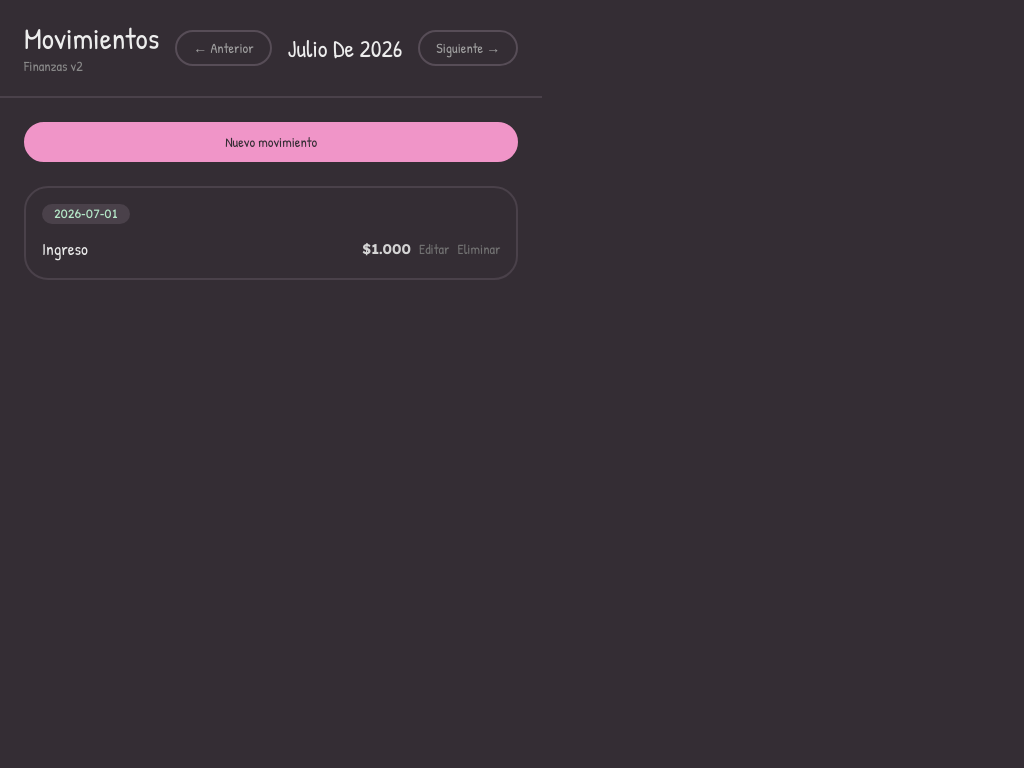
Test: FinanceV2Screen › editing a listed transaction reuses the modal, guards the MonthNav and updates the row
Click the button with aria-label "Editar movimiento de $1.000".
click(434, 249)  # box [419,239,450,259]
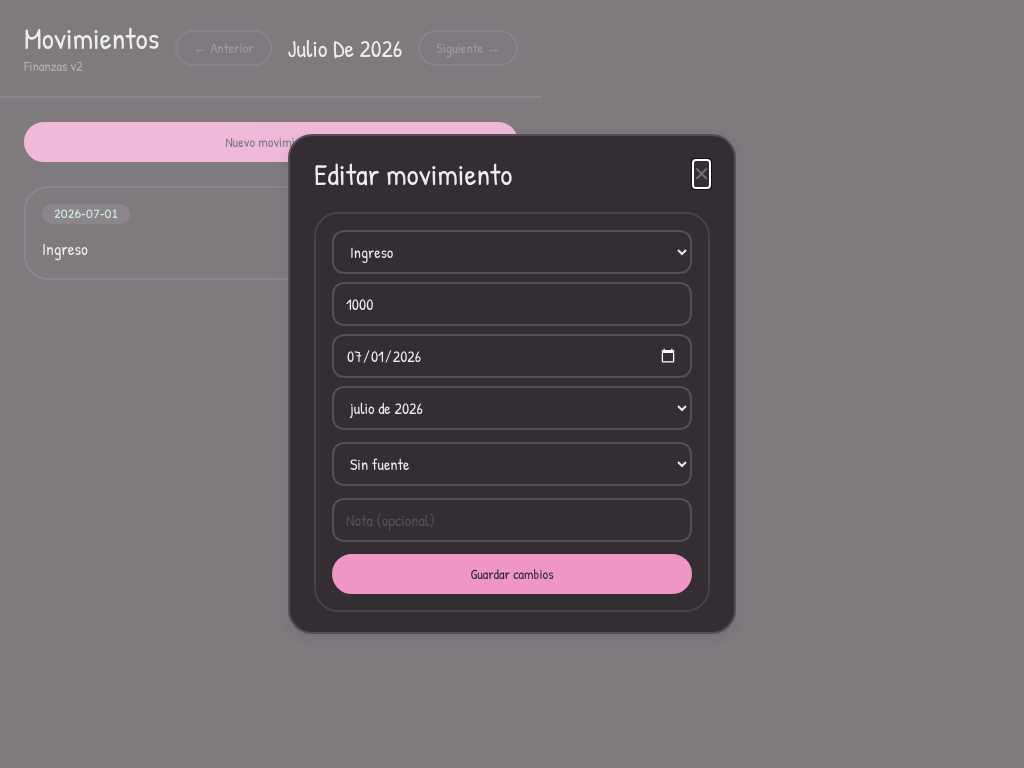
Now the heading "Editar movimiento" is shown, box [314,156,512,192]
Now the button "← Anterior" is disabled, box [175,30,272,66]
Replace the text in the number field named "Monto" with "2500" at x=512, y=304, box [332,282,692,326]
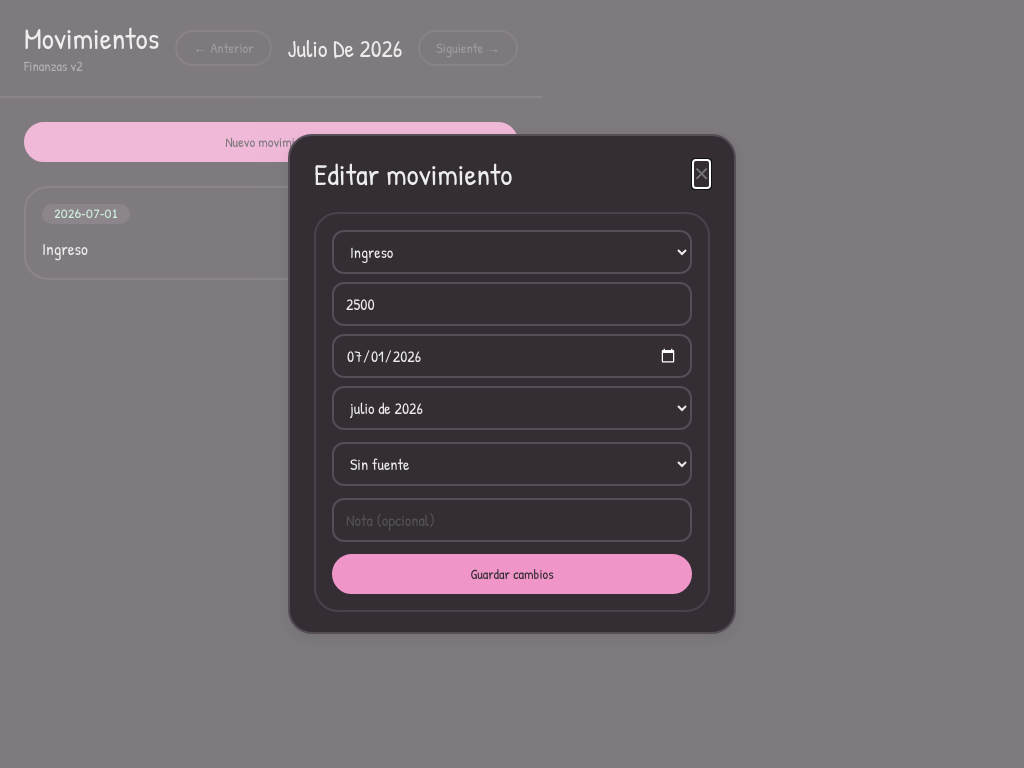
Click the button "Guardar cambios".
click(512, 574)  # box [332,554,692,594]
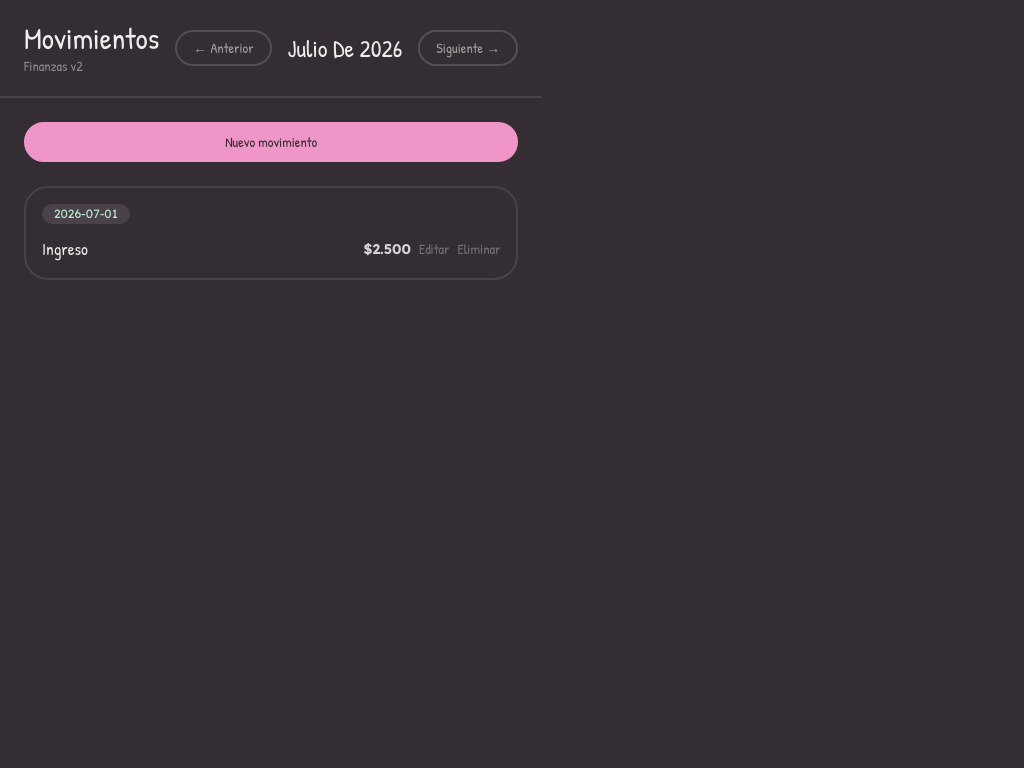
Now the button with aria-label "Eliminar movimiento de $2.500" is shown, box [457,239,500,259]
